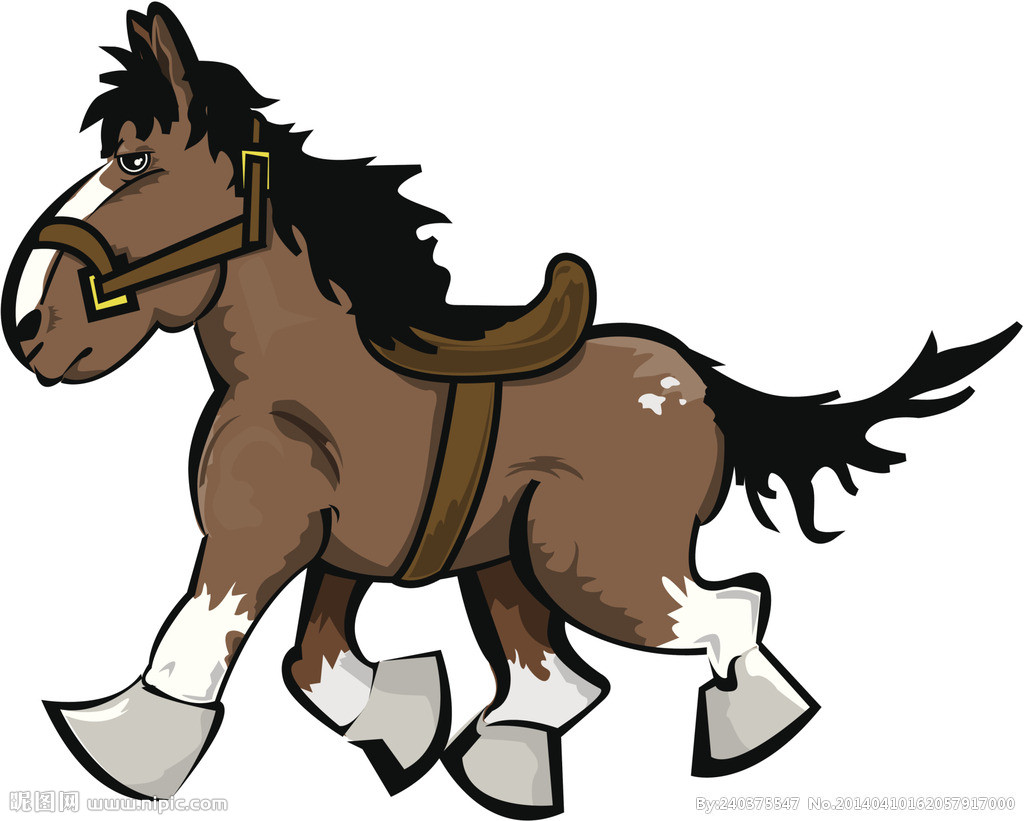background: (1, 16, 1006, 810)
